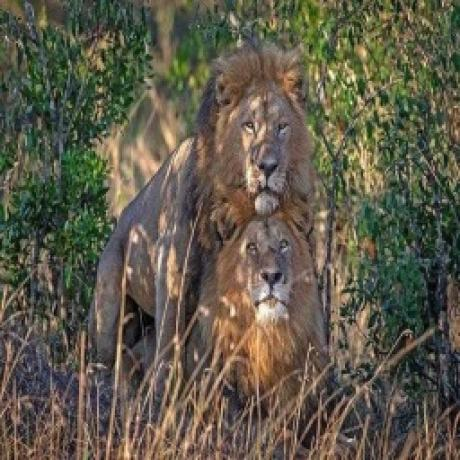Lion: (84, 32, 322, 370), (205, 190, 332, 393)
